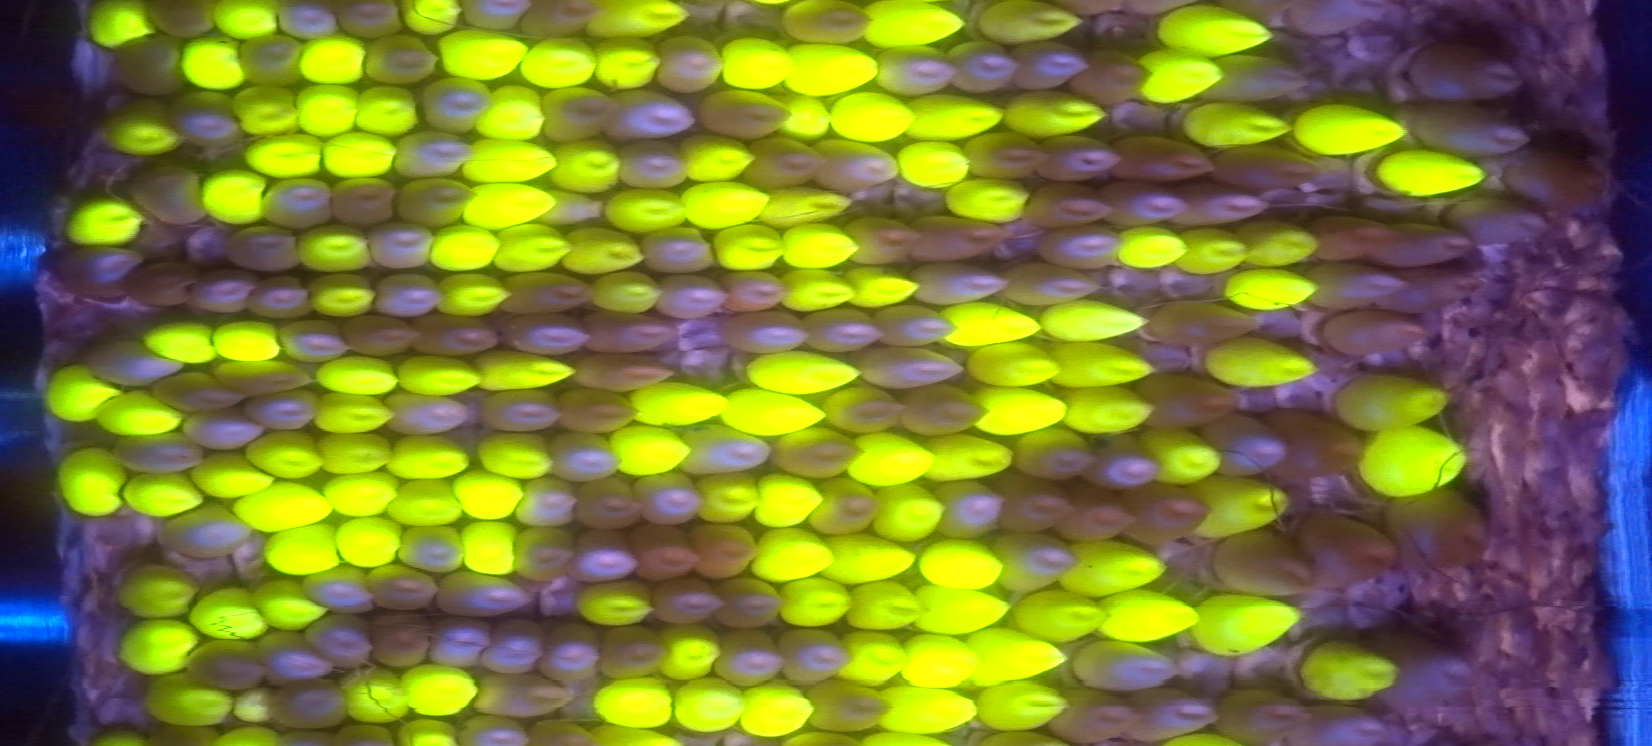fluorescent: (1353, 426, 1467, 493), (1056, 539, 1167, 595), (1195, 601, 1304, 657), (1188, 475, 1289, 537), (1159, 6, 1273, 57), (1207, 333, 1315, 385), (1339, 379, 1445, 431), (1294, 104, 1405, 152), (1378, 150, 1486, 197), (999, 89, 1103, 137), (1099, 593, 1197, 644), (786, 40, 876, 95), (855, 3, 961, 50), (1300, 648, 1396, 699), (720, 388, 828, 432), (1183, 103, 1289, 148), (1017, 588, 1107, 639), (967, 630, 1061, 678), (973, 683, 1067, 730), (605, 423, 690, 474), (848, 434, 935, 485), (916, 545, 1007, 592), (45, 368, 124, 423), (752, 353, 855, 394), (1134, 45, 1214, 98), (60, 453, 124, 518), (141, 678, 230, 725), (436, 31, 523, 79), (469, 353, 576, 391), (899, 633, 973, 687), (902, 96, 1002, 136), (936, 305, 1041, 342), (975, 390, 1069, 432), (878, 689, 973, 730), (190, 586, 262, 640), (913, 589, 1008, 630), (874, 482, 943, 537), (1061, 388, 1149, 431), (120, 622, 193, 673), (737, 687, 812, 737), (1226, 273, 1321, 312), (402, 667, 480, 714), (265, 525, 341, 573), (387, 435, 469, 479), (922, 439, 1010, 480), (234, 485, 329, 523), (1053, 350, 1156, 385), (459, 140, 556, 177), (822, 541, 913, 580), (475, 84, 542, 138), (629, 386, 728, 421), (1141, 433, 1216, 480), (191, 457, 272, 500), (753, 532, 826, 580), (674, 681, 744, 730), (464, 185, 555, 222), (971, 346, 1054, 387), (585, 3, 682, 38), (249, 581, 321, 627), (658, 624, 721, 678), (1239, 222, 1320, 263), (233, 84, 297, 136), (758, 473, 822, 525), (1044, 307, 1152, 337), (118, 570, 194, 613), (683, 185, 764, 225), (948, 181, 1029, 221), (296, 228, 371, 271), (477, 433, 552, 476), (124, 475, 203, 515), (522, 41, 591, 86), (694, 471, 754, 523), (897, 141, 968, 184), (400, 355, 477, 395), (720, 41, 786, 87), (785, 269, 854, 313), (95, 398, 183, 433), (455, 471, 522, 517), (392, 482, 465, 524), (551, 144, 619, 189), (782, 225, 855, 267), (147, 322, 221, 364), (598, 683, 667, 727), (834, 98, 907, 139), (1112, 225, 1184, 267), (458, 523, 517, 573), (560, 231, 644, 267), (681, 136, 751, 178), (297, 40, 367, 82), (438, 272, 503, 317), (343, 675, 408, 721), (603, 193, 684, 229), (318, 357, 396, 394), (846, 590, 918, 630), (335, 519, 398, 565), (578, 583, 649, 623), (245, 437, 321, 474), (495, 225, 567, 264), (761, 193, 846, 225), (200, 173, 268, 214), (180, 40, 245, 82), (326, 473, 390, 515), (594, 41, 656, 84), (781, 582, 846, 623), (247, 139, 319, 176), (712, 228, 785, 264), (314, 395, 389, 431), (111, 107, 174, 150), (297, 89, 353, 136), (843, 634, 902, 679), (304, 276, 375, 313), (62, 205, 137, 240), (88, 5, 149, 48), (591, 273, 655, 313), (214, 321, 279, 360), (322, 139, 393, 175), (358, 86, 412, 133), (430, 230, 492, 270), (320, 432, 386, 470), (847, 272, 912, 308), (1180, 234, 1241, 272), (213, 1, 277, 37), (782, 98, 830, 136), (400, 2, 463, 32), (394, 716, 456, 743)
nonfluorescent: (1386, 487, 1494, 575), (1293, 510, 1400, 597), (1383, 624, 1474, 713), (1503, 146, 1613, 217), (1276, 403, 1368, 480), (1411, 42, 1526, 104), (1411, 100, 1525, 157), (1140, 369, 1245, 429), (1212, 528, 1306, 594), (1110, 132, 1219, 186), (1323, 306, 1427, 360), (963, 125, 1055, 186), (1208, 144, 1321, 194), (908, 210, 1006, 266), (1206, 411, 1287, 478), (131, 159, 206, 229), (432, 572, 539, 621), (1208, 57, 1319, 103), (818, 135, 904, 194), (608, 92, 699, 148), (1078, 639, 1176, 690), (112, 35, 190, 98), (1448, 194, 1547, 243), (81, 336, 180, 386), (1226, 687, 1315, 742), (822, 382, 908, 438), (899, 384, 987, 437), (560, 380, 644, 437), (711, 311, 815, 356), (1307, 212, 1397, 264), (1376, 219, 1471, 269), (378, 388, 473, 437), (473, 671, 576, 716), (878, 41, 960, 98), (212, 353, 311, 399), (702, 89, 790, 140), (504, 273, 596, 321), (807, 679, 890, 732), (678, 430, 774, 476), (495, 314, 588, 361), (1130, 490, 1211, 545), (390, 127, 473, 180), (1002, 262, 1101, 307), (163, 506, 252, 555), (1152, 305, 1263, 343), (744, 135, 823, 190), (780, 425, 863, 476), (545, 82, 617, 141), (936, 480, 1007, 539), (262, 173, 335, 231), (274, 674, 352, 728), (638, 227, 720, 278), (55, 243, 142, 291), (1065, 482, 1133, 543), (1042, 132, 1117, 186), (581, 310, 675, 353), (366, 28, 436, 86), (1002, 531, 1073, 589), (780, 628, 850, 686), (326, 172, 397, 229), (412, 310, 504, 354), (396, 176, 474, 228), (1401, 261, 1479, 313), (1058, 693, 1139, 743), (1022, 182, 1110, 228), (1307, 261, 1396, 307), (779, 1, 873, 43), (646, 273, 728, 321), (656, 34, 724, 93), (178, 406, 265, 451), (262, 632, 341, 682), (913, 263, 1008, 305), (367, 215, 435, 272), (195, 639, 270, 690), (371, 610, 436, 669), (1078, 50, 1149, 103), (539, 621, 606, 679), (1283, 1, 1379, 41), (110, 434, 205, 474), (577, 356, 678, 394), (422, 76, 492, 131), (307, 614, 376, 669), (617, 141, 692, 192), (477, 390, 563, 434), (339, 313, 420, 359), (177, 95, 245, 150), (370, 269, 444, 319), (1096, 434, 1162, 490), (811, 480, 878, 536), (1139, 691, 1220, 737), (574, 473, 640, 529), (850, 211, 919, 263), (602, 627, 670, 680), (651, 578, 725, 627), (1017, 39, 1087, 90), (866, 350, 965, 386), (1032, 231, 1125, 269), (1103, 186, 1185, 229), (638, 475, 707, 526), (801, 310, 879, 354), (1017, 434, 1095, 478), (1003, 479, 1073, 529), (1182, 184, 1267, 224), (512, 523, 573, 578), (302, 567, 371, 616), (127, 260, 197, 309), (518, 476, 576, 534), (723, 627, 780, 686), (1312, 703, 1389, 746), (249, 270, 314, 320), (225, 225, 299, 270), (367, 562, 435, 609), (878, 303, 961, 342), (241, 34, 300, 87), (715, 273, 787, 317), (245, 388, 318, 431), (550, 437, 621, 482), (282, 315, 347, 364), (642, 526, 694, 585), (573, 532, 635, 582), (426, 616, 488, 666), (523, 1, 596, 42), (690, 525, 755, 571), (720, 580, 781, 629), (396, 524, 458, 572), (492, 619, 542, 679), (158, 372, 236, 410), (960, 40, 1016, 93), (147, 1, 220, 41), (191, 273, 258, 315), (333, 1, 404, 40), (280, 1, 337, 42), (461, 1, 524, 34), (456, 715, 522, 746)
